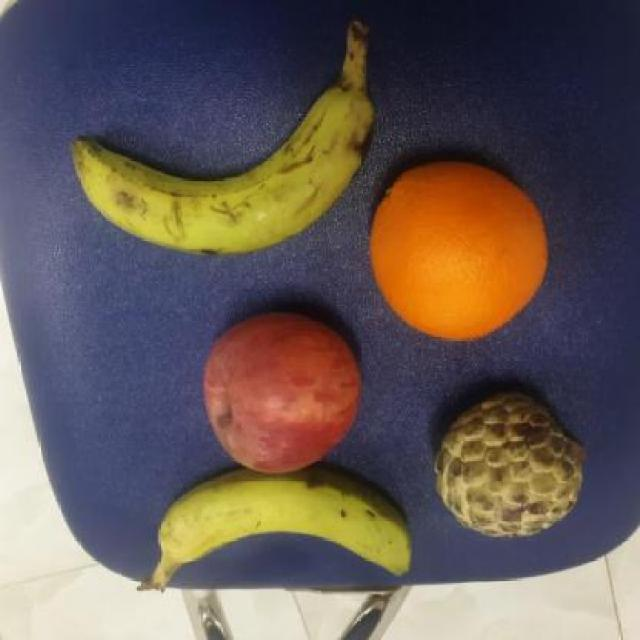apple: (201, 309, 365, 473)
banana: (70, 81, 376, 262), (148, 468, 420, 587)
oren: (363, 162, 548, 342)
sugar apple: (431, 389, 587, 543)
